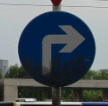right_turn: (17, 10, 96, 87)
